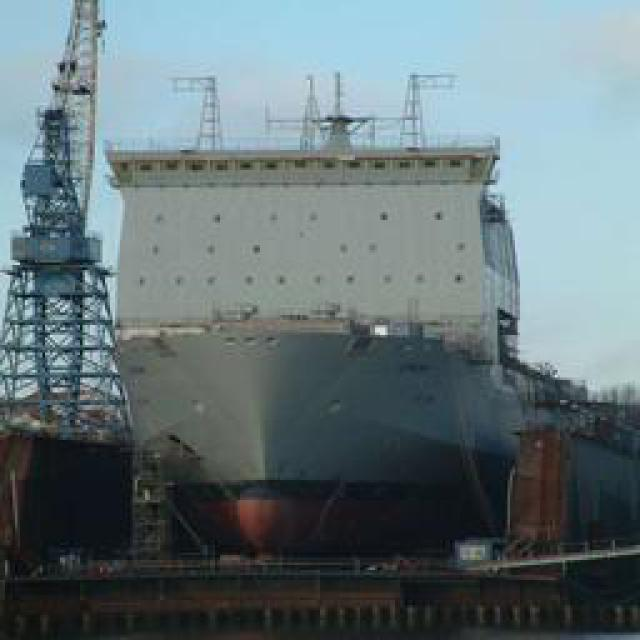Ship: (88, 55, 607, 568)
